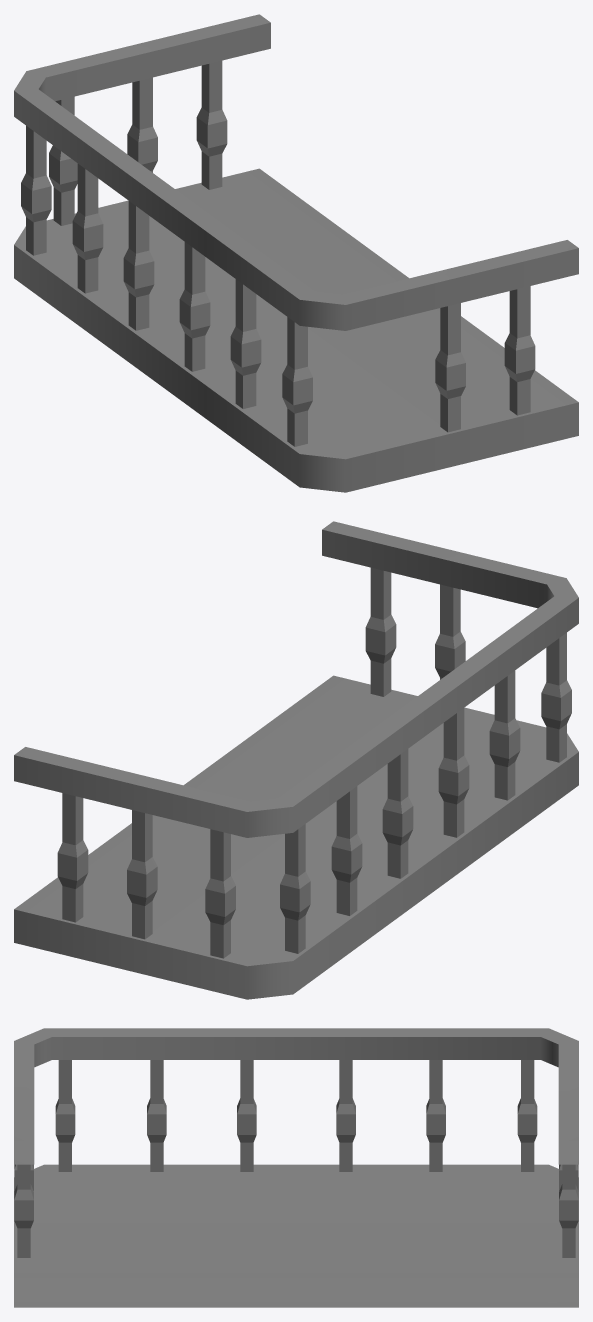
Rendered from Balcon_1_1_A.fbx.
The picture shows the model from 3 angles, top to bottom: view 1: azimuth 30°, elevation 25°; view 2: azimuth 150°, elevation 25°; view 3: azimuth 270°, elevation 25°; orthographic projection. The views are drawn at different scales.
Visible parts, largest first — view 1: Balcon_1_1_A; view 2: Balcon_1_1_A; view 3: Balcon_1_1_A.
Boxes of the visible parts, x1,y1,x2,y2 form: Balcon_1_1_A: (14,14,578,492); Balcon_1_1_A: (14,521,578,999); Balcon_1_1_A: (14,1028,578,1307).
Bounding box in the file's own units: 126 × 85.82 × 265.
